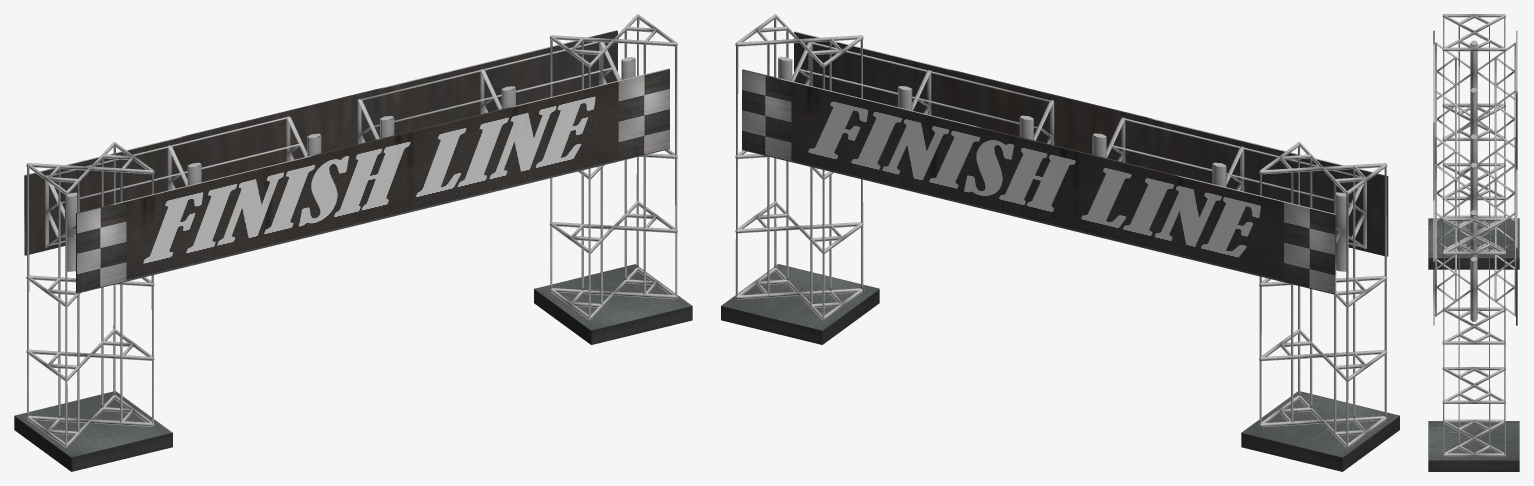
File: zhongdian.FBX
3 renders of one model, left to right at view 1: azimuth 30°, elevation 25°; view 2: azimuth 150°, elevation 25°; view 3: azimuth 270°, elevation 25°, orthographic. The views are drawn at different scales.
Parts seen in each view (by area): view 1: zhongdian; view 2: zhongdian; view 3: zhongdian.
Part boxes in pixels (x1,y1,x2,y2): zhongdian: (14, 14, 692, 471); zhongdian: (721, 14, 1399, 471); zhongdian: (1428, 14, 1519, 471).
Bounding box in the file's own units: 1344 × 563 × 215.
